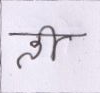i_matra: (43, 25, 60, 60)
